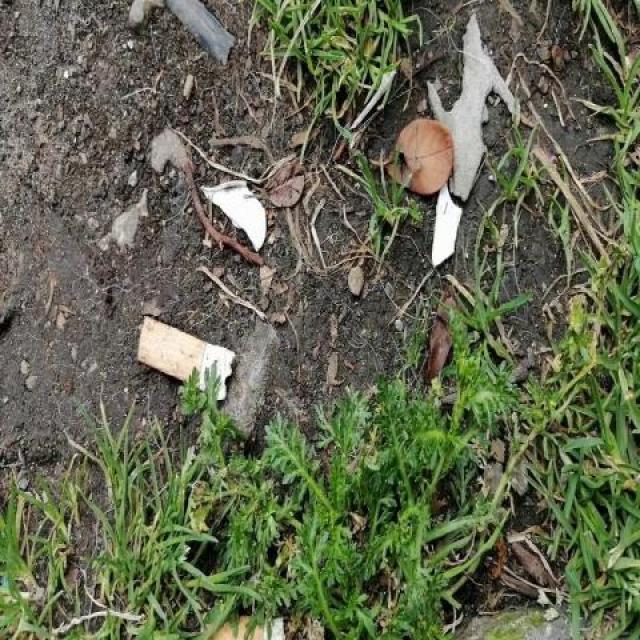non-organic waste: (133, 311, 240, 406)
